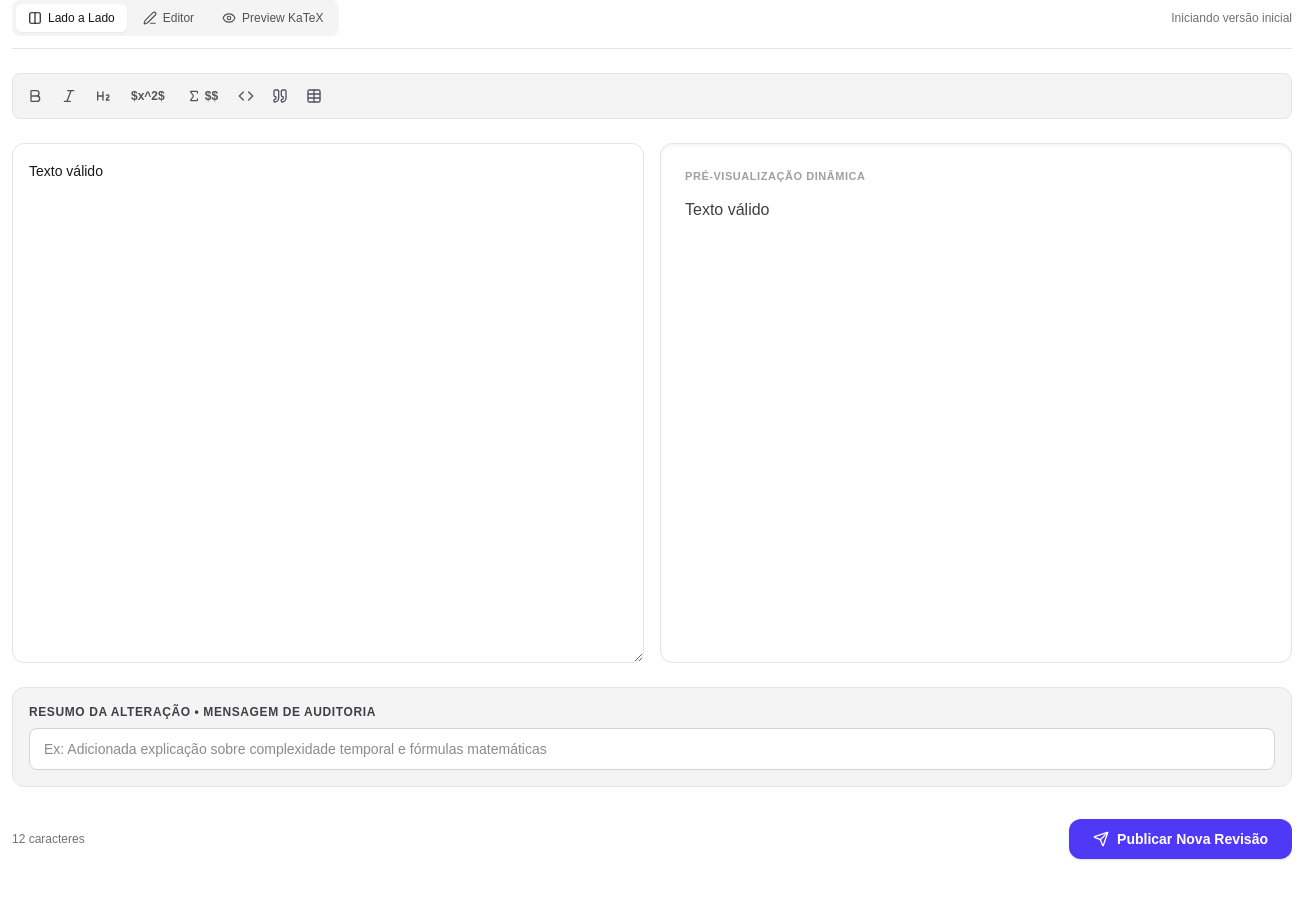
Test: MaterialEditor Component › handles error during submission
Replace the text in the field with placeholder "Ex: Adicionada explicação" with "Tentativa com erro" at [652, 749], box [29, 728, 1275, 770]
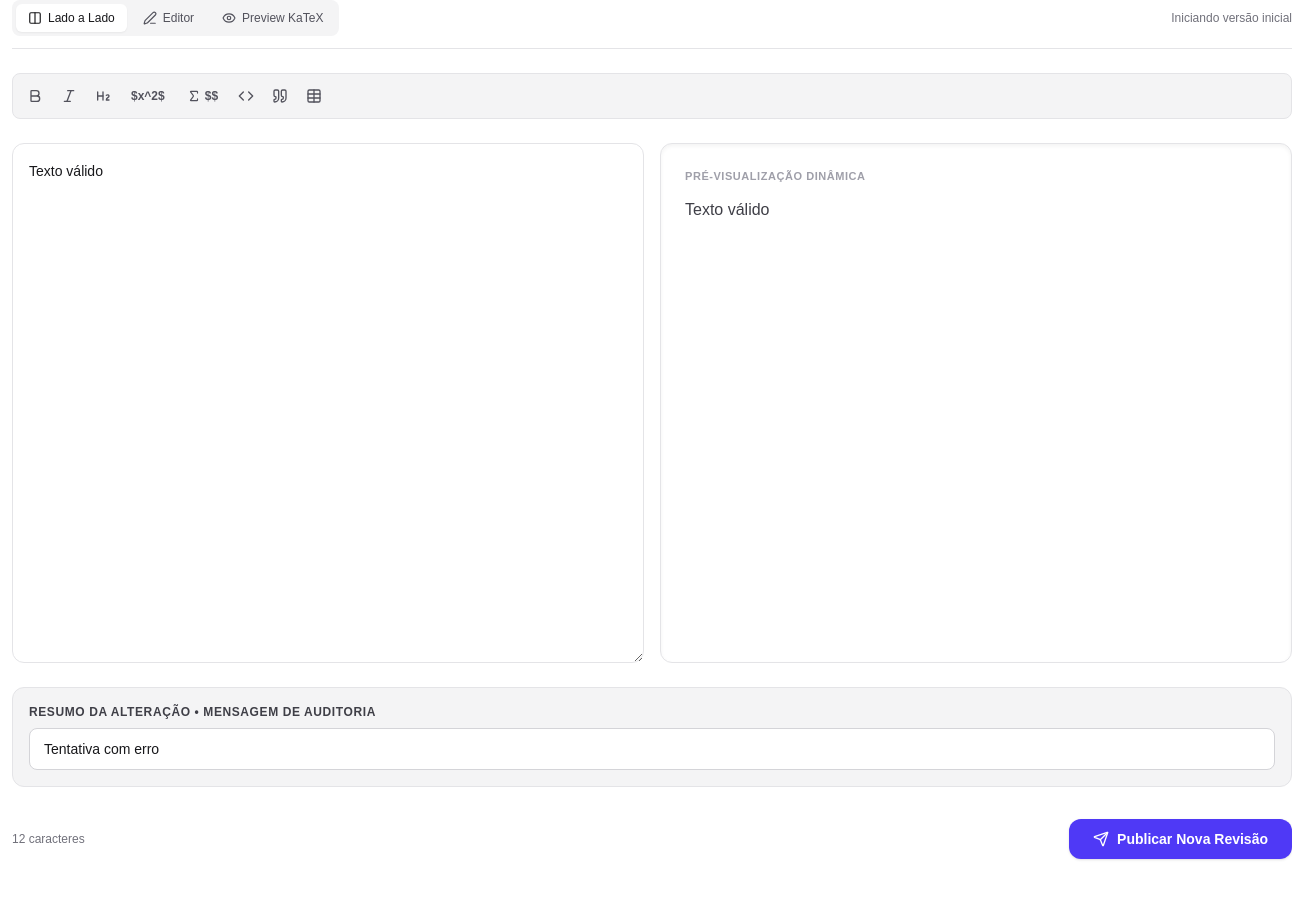
Click the button "Publicar Nova Revisão" at [1180, 839], box [1069, 819, 1292, 859]
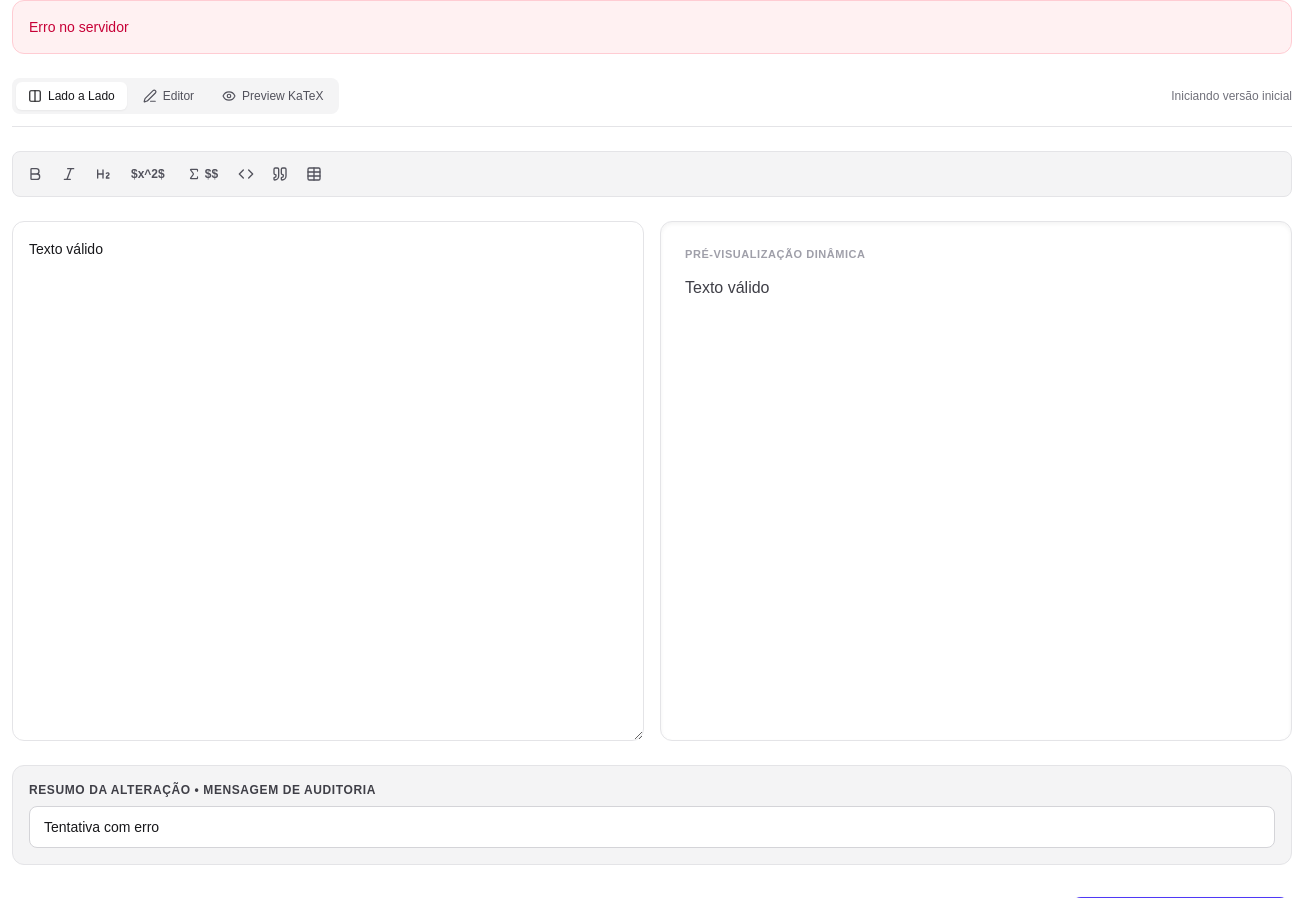
Now the text "Erro no servidor" is shown, box [12, 0, 1292, 54]
